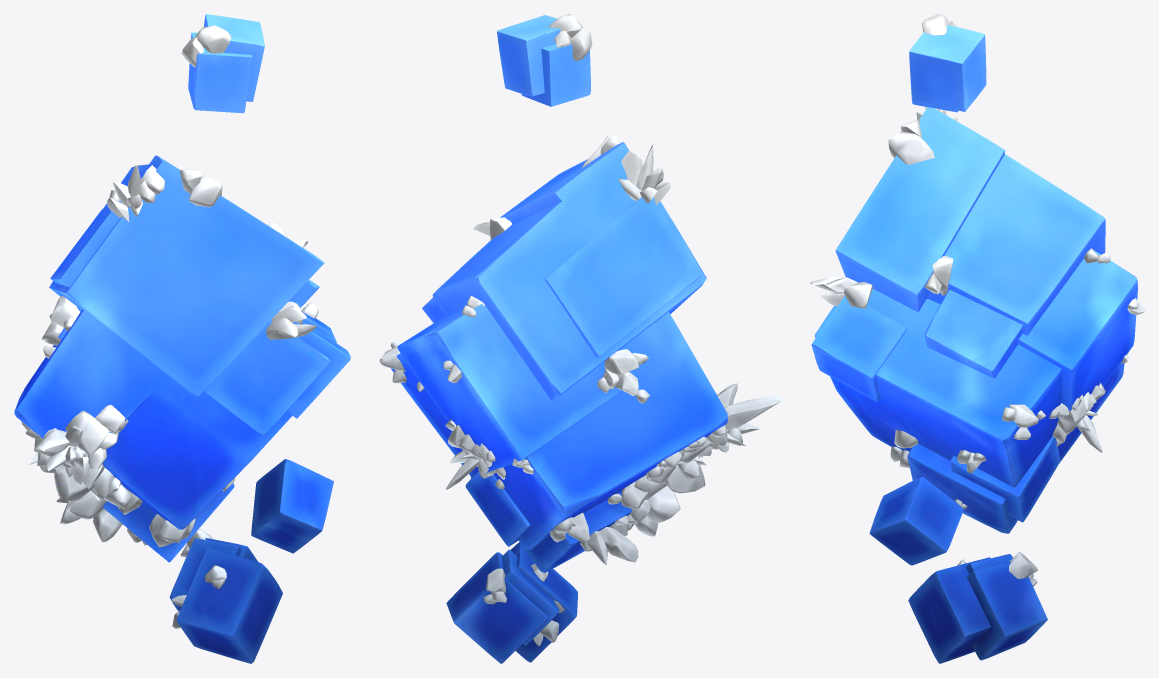
The model's file is odk_gem_a.glb.
3 renders of one model, left to right at view 1: azimuth 30°, elevation 25°; view 2: azimuth 150°, elevation 25°; view 3: azimuth 270°, elevation 25°, orthographic. The views are drawn at different scales.
Parts seen in each view (by area): view 1: odk_gem_a; view 2: odk_gem_a; view 3: odk_gem_a.
Boxes of the visible parts, box(x1,y1,x2,y2) form: odk_gem_a: box(14, 14, 350, 663); odk_gem_a: box(379, 14, 781, 663); odk_gem_a: box(810, 14, 1144, 663).
Bounding box in the file's own units: 25.62 × 45.32 × 21.92.
Materials: 2 (2 with a texture image).
